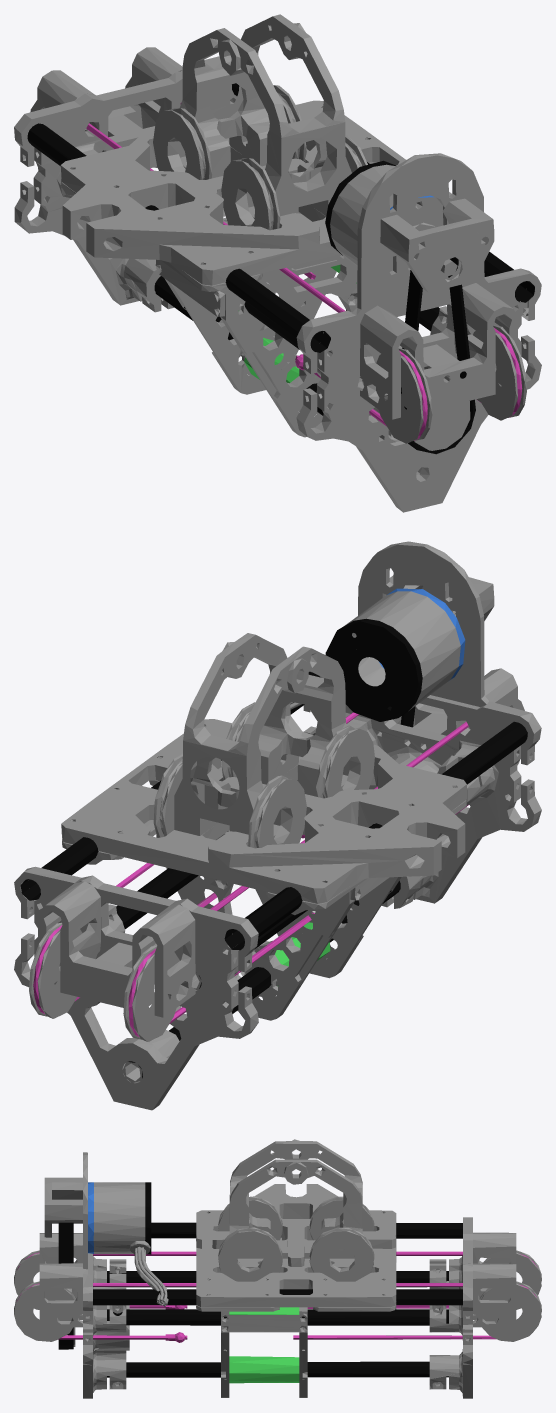
File: color_abduction_L.dae
3 renders of one model, top to bottom at view 1: azimuth 30°, elevation 25°; view 2: azimuth 150°, elevation 25°; view 3: azimuth 270°, elevation 25°, orthographic. The views are drawn at different scales.
Parts seen in each view (by area): view 1: updated_abduction_L_dae; view 2: updated_abduction_L_dae; view 3: updated_abduction_L_dae.
Boxes of the visible parts, <box> form: updated_abduction_L_dae: <box>14,14,541,512</box>; updated_abduction_L_dae: <box>14,541,541,1110</box>; updated_abduction_L_dae: <box>14,1139,541,1398</box>.
Bounding box in the file's own units: 148 × 317 × 160.
